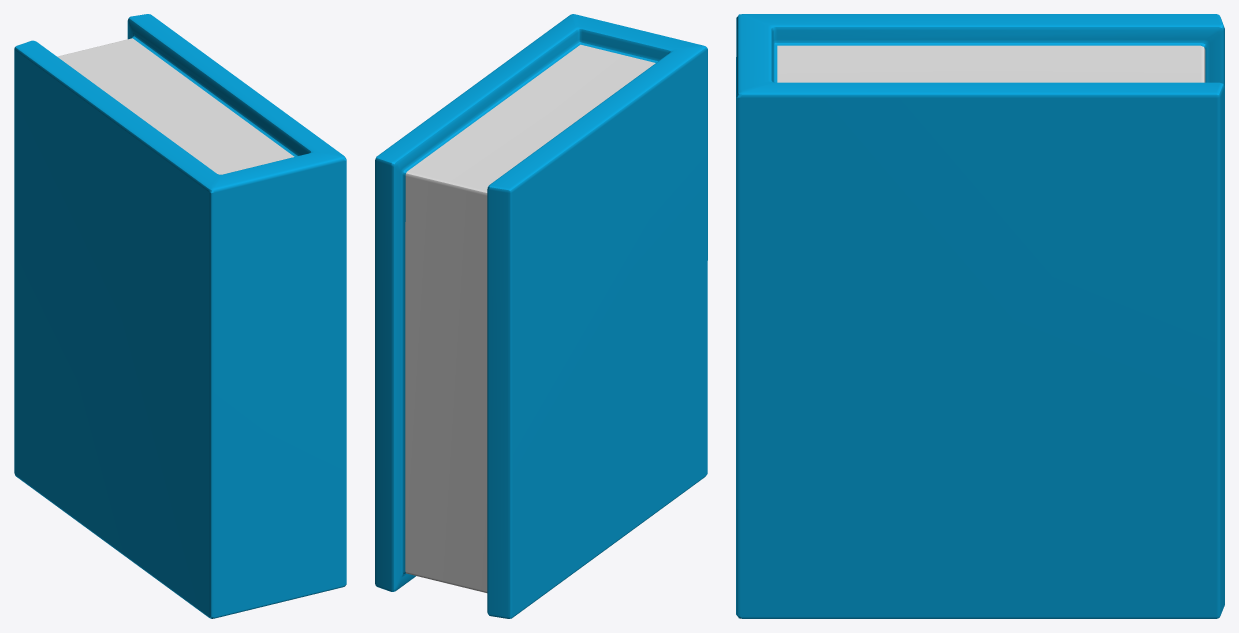
File: BlueBook.fbx
The picture shows the model from 3 angles, left to right: view 1: azimuth 30°, elevation 25°; view 2: azimuth 150°, elevation 25°; view 3: azimuth 270°, elevation 25°; orthographic projection. The views are drawn at different scales.
Parts seen in each view (by area): view 1: pCube17; view 2: pCube17; view 3: pCube17.
Boxes of the visible parts, box(x1,y1,x2,y2) form: pCube17: box(14, 14, 346, 618); pCube17: box(375, 14, 707, 618); pCube17: box(736, 14, 1224, 618).
Bounding box in the file's own units: 0.6005 × 1.8 × 1.51.
